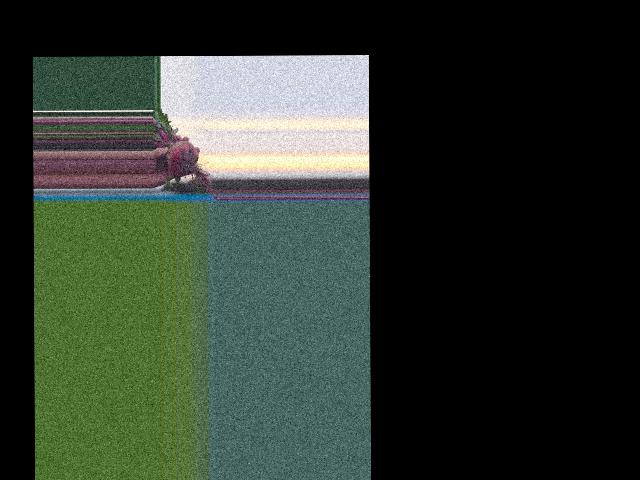beet: (152, 108, 217, 199)
